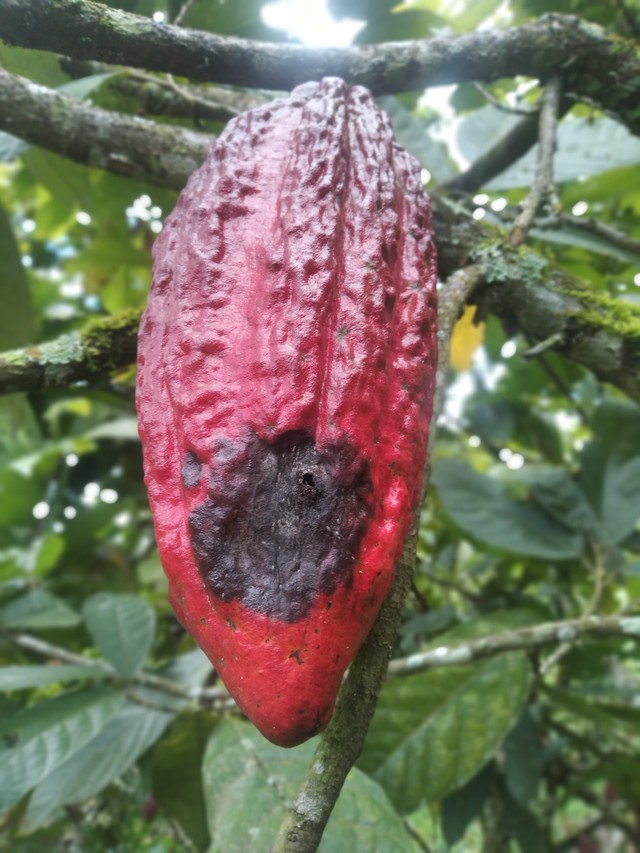carmenta foraseminis: (132, 69, 441, 754)
